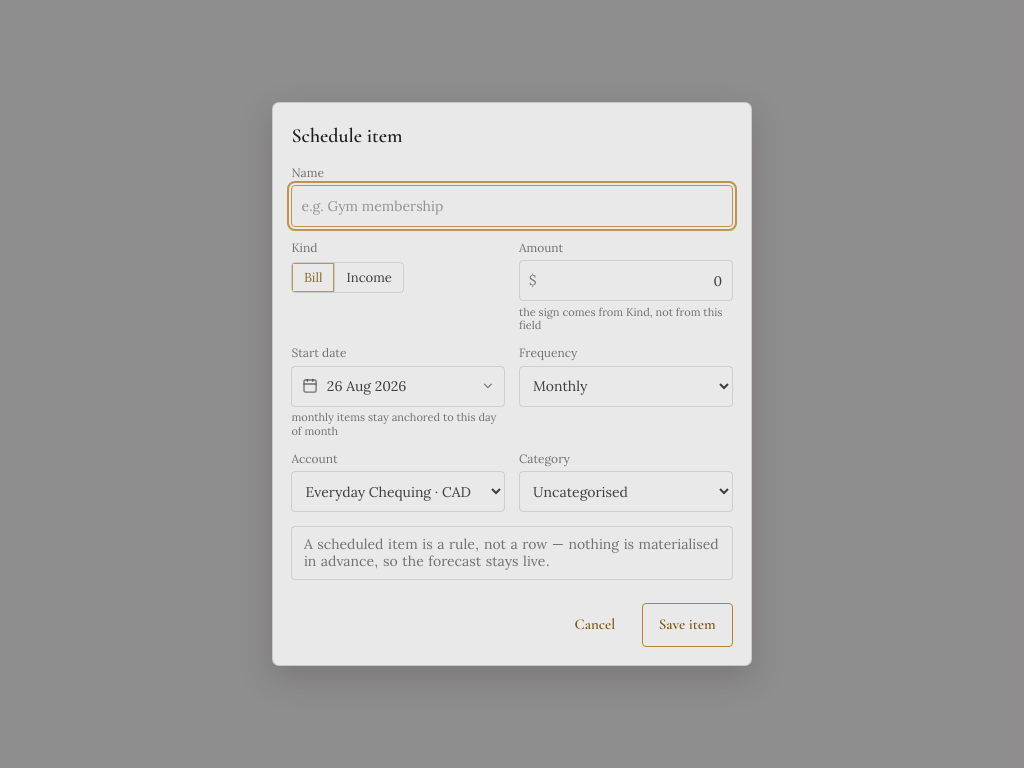
Scenario: a failure with no details keeps its code and leaves the dialog open
Type "Gym membership" into the field labelled "Name" at [512, 206], box [291,185,733,227]
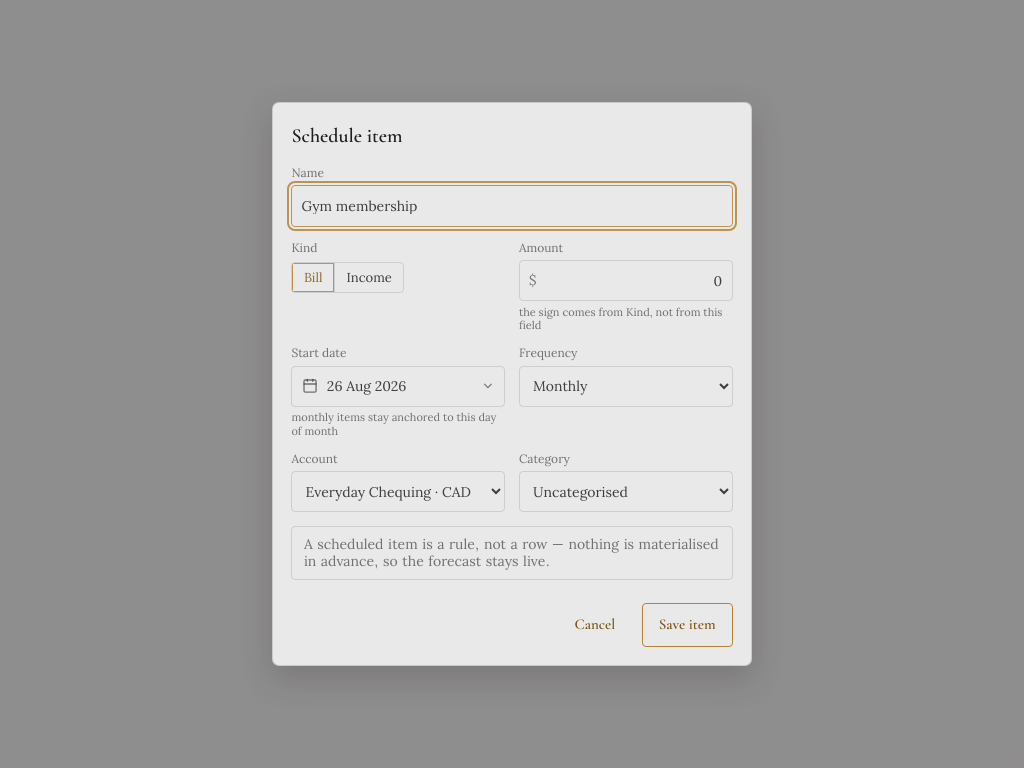
Replace the text in the field labelled "Amount" with "4500" at [634, 281], box [546,261,722,300]
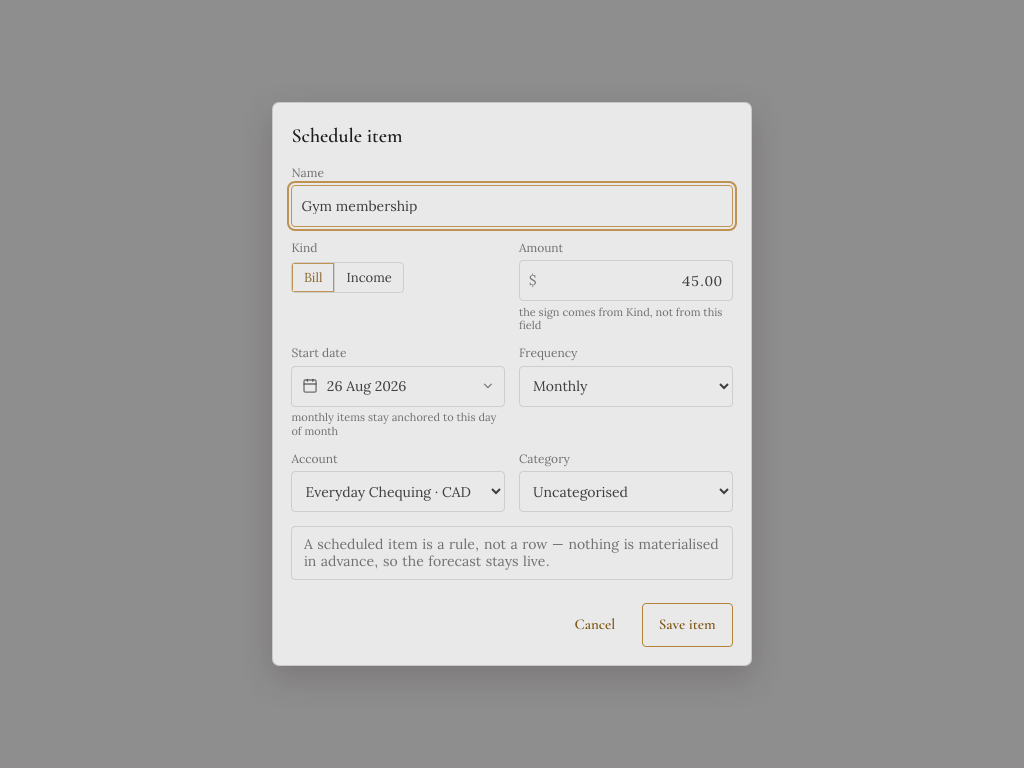
Click the button "Save item" at [687, 625], box [642,603,733,647]
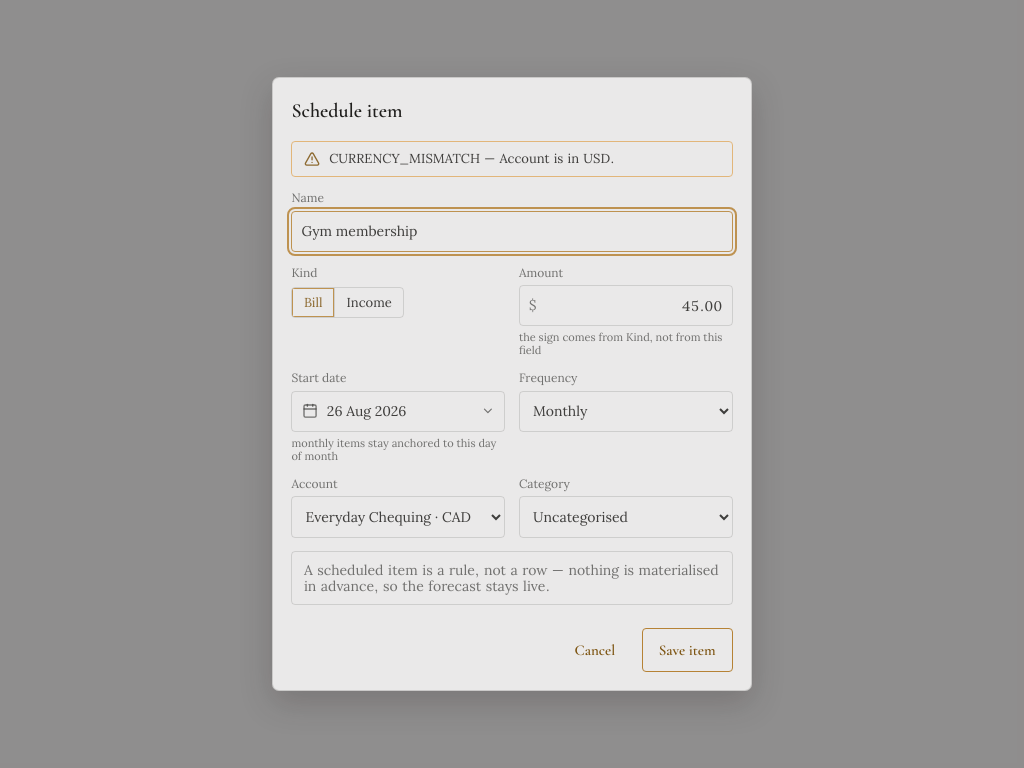
Expected: the text "CURRENCY_MISMATCH — Account is in USD." is shown, [329,151,614,167]
